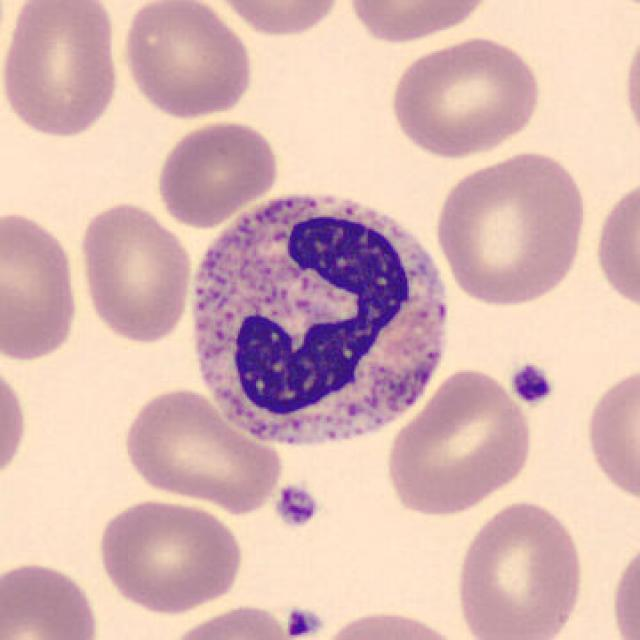Neutrophil: (178, 174, 460, 458)
Platelets: (272, 481, 322, 531), (506, 360, 556, 409), (283, 603, 327, 640)
RBC: (430, 146, 590, 308), (382, 364, 537, 518), (118, 384, 286, 513), (384, 32, 546, 160), (450, 495, 588, 640), (93, 494, 247, 615), (74, 198, 196, 346), (0, 0, 124, 141), (119, 0, 256, 122), (153, 116, 281, 230), (0, 204, 84, 365), (0, 557, 103, 640), (582, 360, 638, 511), (590, 169, 638, 319), (345, 0, 499, 46), (206, 0, 347, 39), (311, 606, 471, 640), (162, 603, 298, 640), (0, 356, 30, 490), (608, 532, 640, 640), (618, 14, 640, 157), (594, 0, 640, 19)
